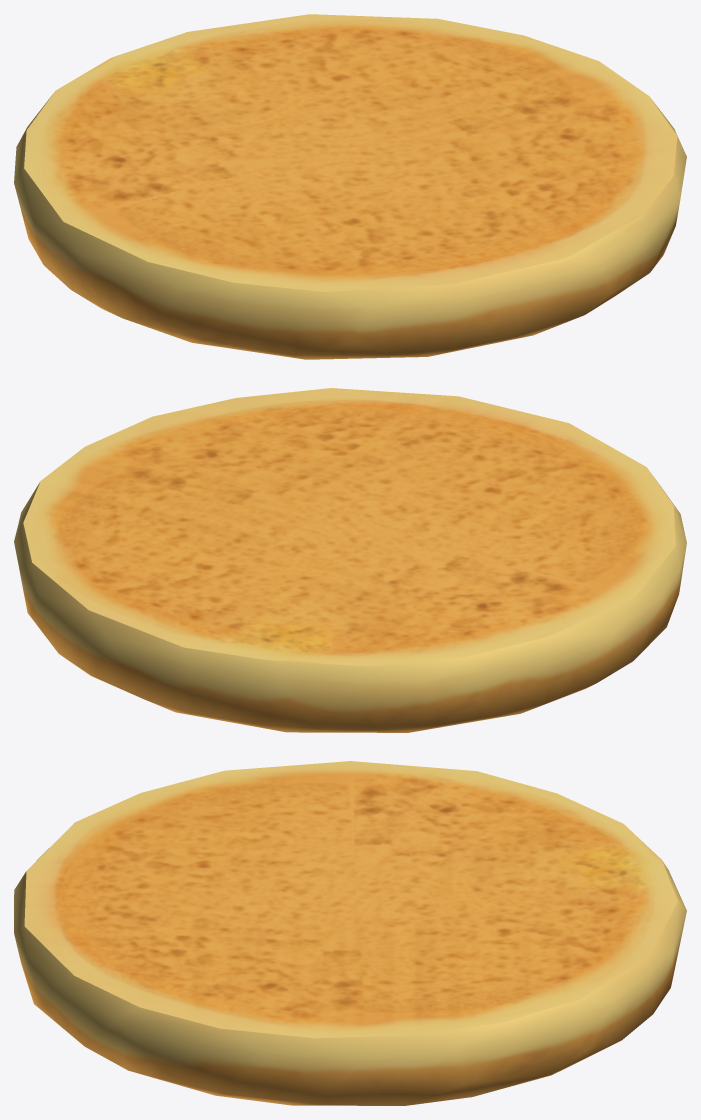
Rendered from burgerBread1.fbx.
3 views of the same model, one above another, from view 1: azimuth 30°, elevation 25°; view 2: azimuth 150°, elevation 25°; view 3: azimuth 270°, elevation 25° (orthographic).
Parts seen in each view (by area): view 1: Circle.003; view 2: Circle.003; view 3: Circle.003.
Boxes of the visible parts, <box> form: Circle.003: <box>14,14,686,359</box>; Circle.003: <box>14,388,686,732</box>; Circle.003: <box>14,761,686,1105</box>.
Size of the model in its own units: 198 by 29.79 by 198.
